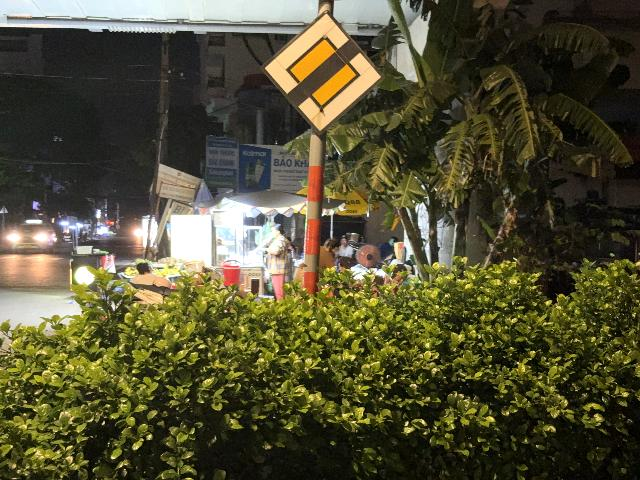het-duong-uu-tien: (259, 10, 387, 137)
